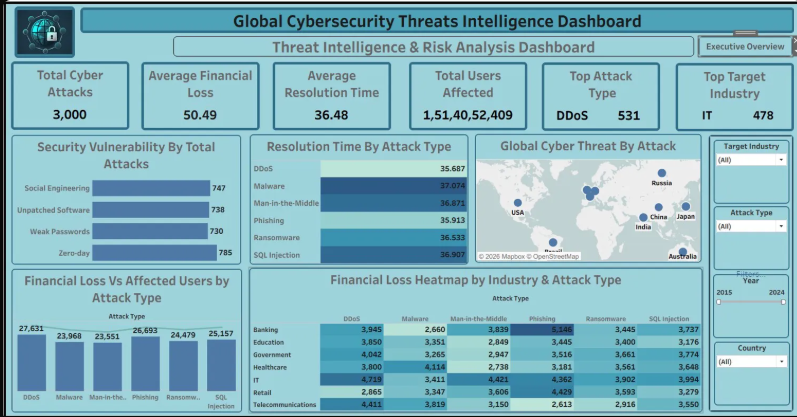

This screenshot's page, from the dashboard's own definition file:
{"tool":"tableau","page":{"name":"Threat Intelligence & Risk Analysis","canvas":[1000,1000],"units":"permille","ordinal":1},"visuals":[{"type":"image","param":"E:/Global_SBC.png","box":[18.7,21.2,74.8,121]},{"type":"text","box":[100.2,23.5,884.1,59.9]},{"type":"text","box":[215.5,91.7,645.1,47]},{"type":"dashboard-object","box":[865.8,91.7,116.3,47]},{"type":"worksheet","title":"Sheet 3","mark":"Automatic","box":[14.5,150.4,146.7,161]},{"type":"worksheet","title":"Sheet 1","mark":"Automatic","box":[175.6,151.6,146.7,161]},{"type":"worksheet","title":"Sheet 2","mark":"Automatic","box":[338.6,151.6,146.7,161]},{"type":"worksheet","title":"Sheet 4","mark":"Automatic","box":[506.9,151.6,146.7,161]},{"type":"worksheet","title":"Sheet 5","mark":"Automatic","rows":["Attack Type"],"box":[671.7,152.8,146.7,161]},{"type":"worksheet","title":"Sheet 6","mark":"Automatic","rows":["Target Industry"],"box":[837.7,153.9,146.7,161]},{"type":"worksheet","title":"Global Cyber Threat","mark":"Automatic","box":[588.7,320.8,280.8,303.2]},{"type":"worksheet","title":"Resolution Time By Attack Type","mark":"Square","rows":["Attack Type"],"box":[309.8,322,270.9,306.7]},{"type":"worksheet","title":"Security Vulnerability Type Analysis","mark":"Automatic","rows":["Security Vulnerability Type"],"cols":["Calculation_3303276370116608"],"box":[14.8,323.2,284.5,305.5]},{"type":"dashboard-object","param":"[com.tableau.addfilters].[0.0.0].[https://extensions.tableauusercontent.com/sand","box":[878.2,323.2,105.1,652.2]},{"type":"filter","title":"High Risk Industry","param":"[federated.03sxa5z1kqe3aa16jkszu11riw0x].[none:Target Industry:nk]","box":[884.4,334.9,94,150.4]},{"type":"filter","title":"High Risk Industry","param":"[federated.03sxa5z1kqe3aa16jkszu11riw0x].[none:Attack Type:nk]","box":[884.4,491.2,94,150.4]},{"type":"worksheet","title":"High Risk Industry","mark":"Square","rows":["Target Industry"],"cols":["Attack Type"],"box":[309.2,635.7,561.5,340.8]},{"type":"worksheet","title":"Financial Loss Vs Affected Users","mark":"Automatic","rows":["Financial Loss (in Million $)","Number of Affected Users"],"cols":["Attack Type"],"box":[14.8,638.1,285.7,338.4]},{"type":"filter","title":"High Risk Industry","param":"[federated.03sxa5z1kqe3aa16jkszu11riw0x].[none:Year:qk]","box":[883.7,651,94,150.4]},{"type":"filter","title":"High Risk Industry","param":"[federated.03sxa5z1kqe3aa16jkszu11riw0x].[none:Country:nk]","box":[885,809.6,94,150.4]}]}

Visuals, with their boxes on the dashboard's canvas, which has no fixed pixel size, in thousandths of its width and height (x1, y1, x2, y2). These are canvas units, not pixel positions in the 797x417 screenshot, which may show the page scaled, cropped or inside an application window:
image: x1=19 y1=21 x2=94 y2=142
text: x1=100 y1=24 x2=984 y2=83
text: x1=216 y1=92 x2=861 y2=139
dashboard-object: x1=866 y1=92 x2=982 y2=139
"Sheet 3" worksheet: x1=14 y1=150 x2=161 y2=311
"Sheet 1" worksheet: x1=176 y1=152 x2=322 y2=313
"Sheet 2" worksheet: x1=339 y1=152 x2=485 y2=313
"Sheet 4" worksheet: x1=507 y1=152 x2=654 y2=313
"Sheet 5" worksheet: x1=672 y1=153 x2=818 y2=314
"Sheet 6" worksheet: x1=838 y1=154 x2=984 y2=315
"Global Cyber Threat" worksheet: x1=589 y1=321 x2=870 y2=624
"Resolution Time By Attack Type" worksheet (Square marks): x1=310 y1=322 x2=581 y2=629
"Security Vulnerability Type Analysis" worksheet: x1=15 y1=323 x2=299 y2=629
dashboard-object: x1=878 y1=323 x2=983 y2=975
"High Risk Industry" filter: x1=884 y1=335 x2=978 y2=485
"High Risk Industry" filter: x1=884 y1=491 x2=978 y2=642
"High Risk Industry" worksheet (Square marks): x1=309 y1=636 x2=871 y2=976
"Financial Loss Vs Affected Users" worksheet: x1=15 y1=638 x2=300 y2=976
"High Risk Industry" filter: x1=884 y1=651 x2=978 y2=801
"High Risk Industry" filter: x1=885 y1=810 x2=979 y2=960
